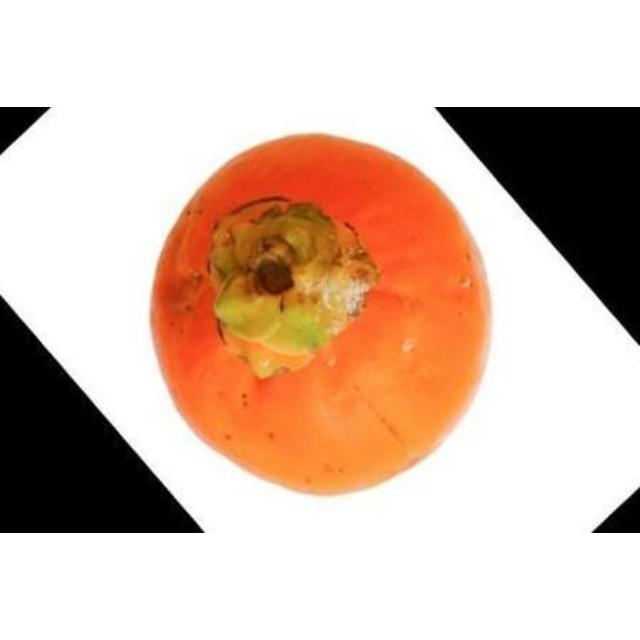good: (142, 131, 496, 498)
